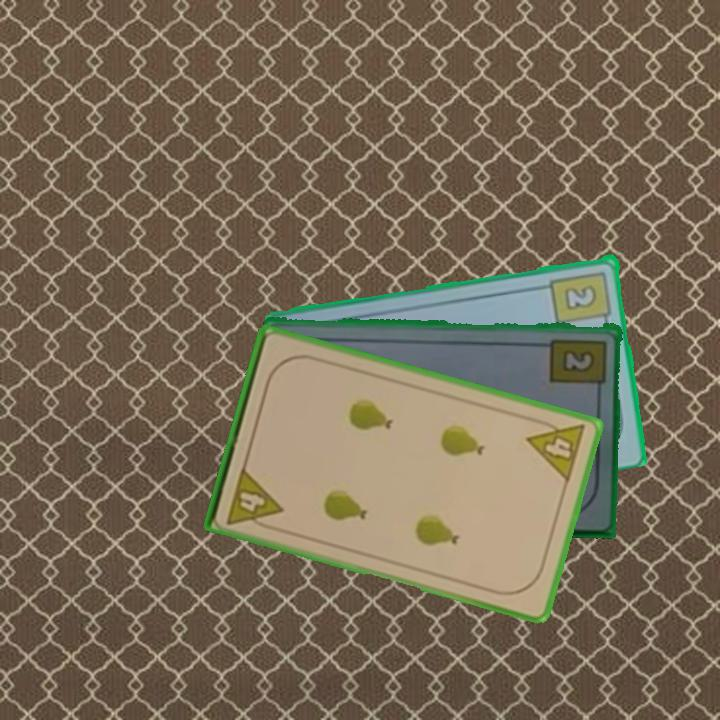2b: (547, 267, 615, 329), (547, 335, 609, 396)
4p: (523, 413, 589, 485), (223, 463, 286, 534)
